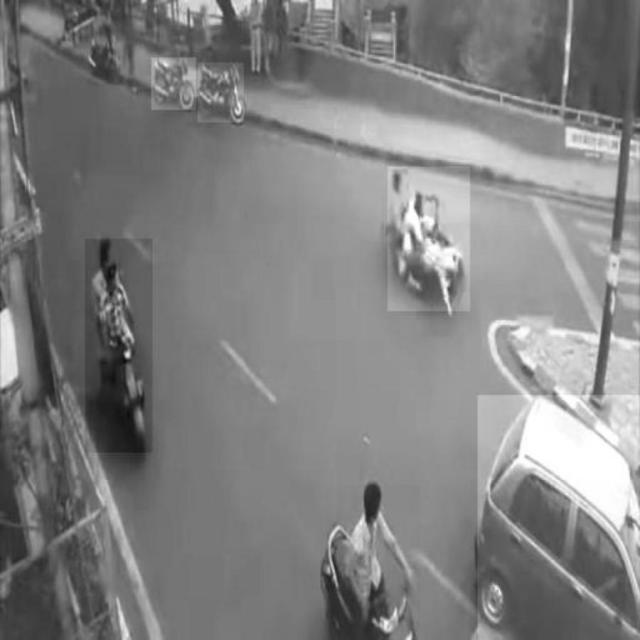accident: (388, 167, 471, 311)
vehicle: (478, 395, 640, 639), (325, 485, 419, 639), (86, 239, 153, 453), (198, 63, 244, 123), (152, 57, 197, 111)
